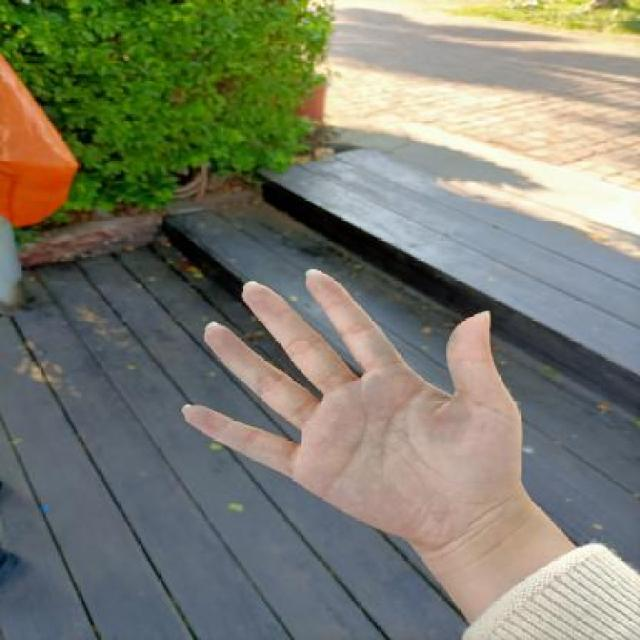bare_hand: (164, 249, 542, 551)
